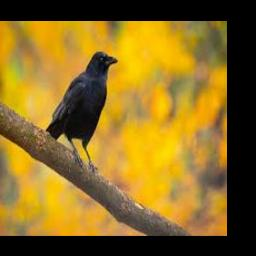Crow: (44, 51, 118, 175)
